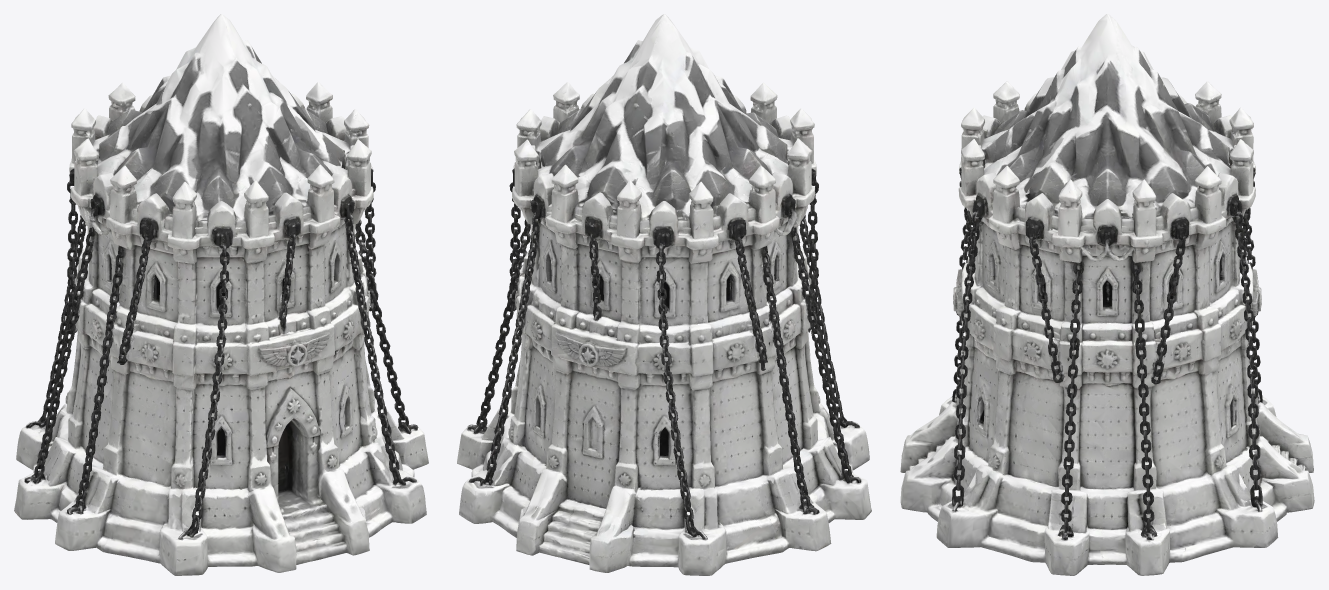
Rendered from ChainBastion.glb.
3 views of the same model, side by side, from view 1: azimuth 30°, elevation 25°; view 2: azimuth 150°, elevation 25°; view 3: azimuth 270°, elevation 25° (orthographic).
Size of the model in its own units: 1.54 by 1.9 by 1.51.
1 material, 1 textured.
